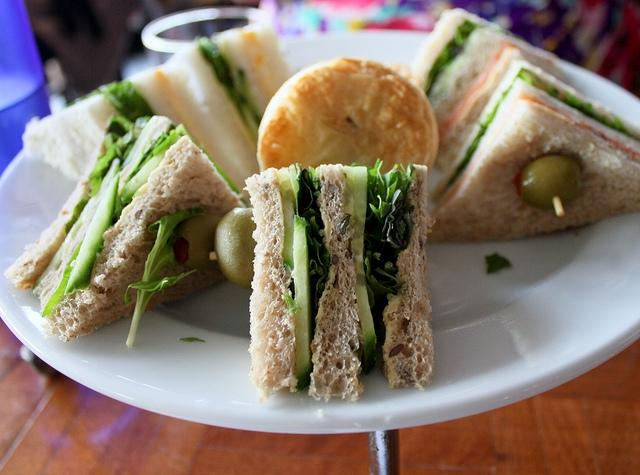cucumber: (64, 174, 120, 296), (352, 166, 377, 376), (121, 134, 179, 204), (293, 215, 313, 391), (238, 100, 258, 141), (278, 166, 296, 208), (343, 165, 355, 227)
lettuce: (442, 68, 638, 194), (123, 207, 210, 348), (364, 159, 418, 317), (65, 174, 126, 295), (196, 36, 262, 130), (88, 112, 152, 198), (421, 19, 484, 98), (105, 81, 155, 123), (296, 168, 321, 217), (153, 130, 180, 156), (307, 240, 326, 276)
